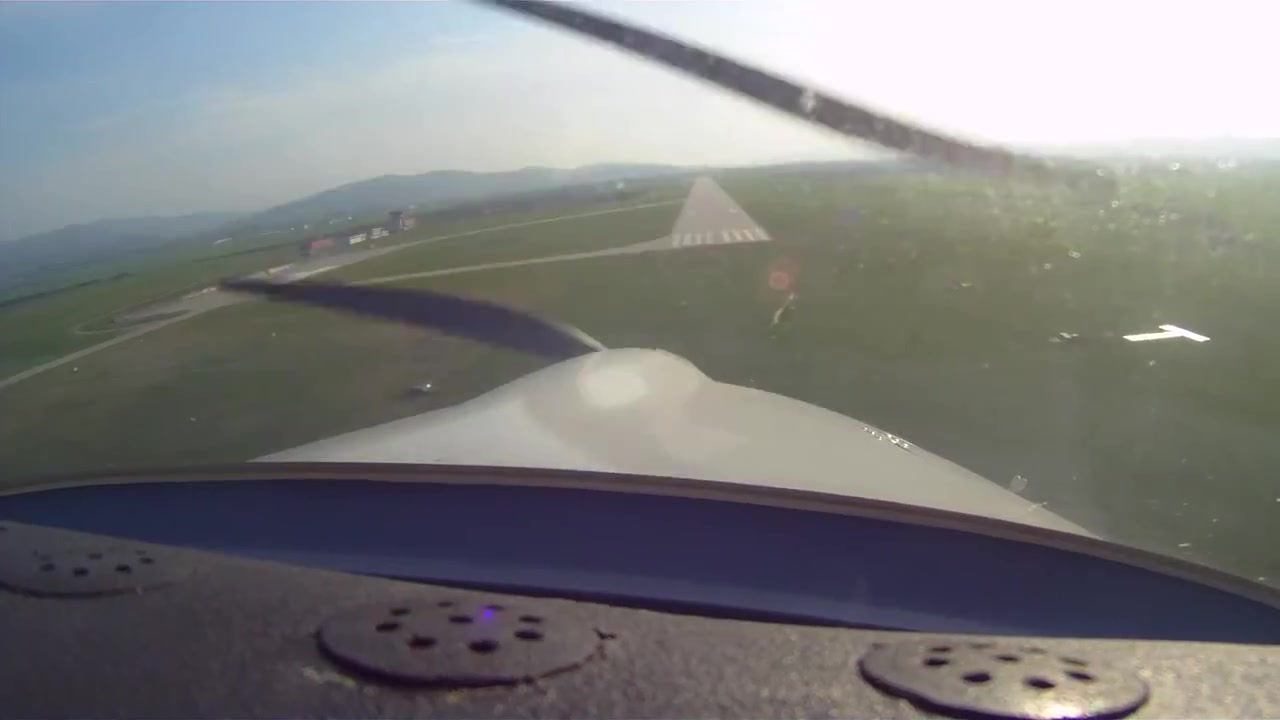entrance: (673, 230, 765, 247)
runway: (668, 169, 769, 251)
